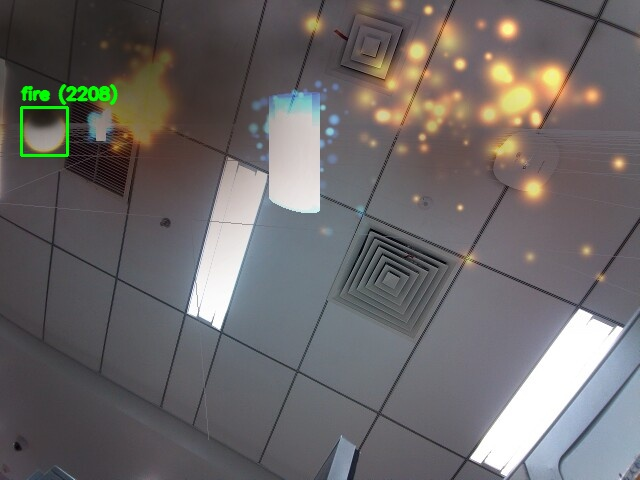fire: (21, 107, 67, 155)
